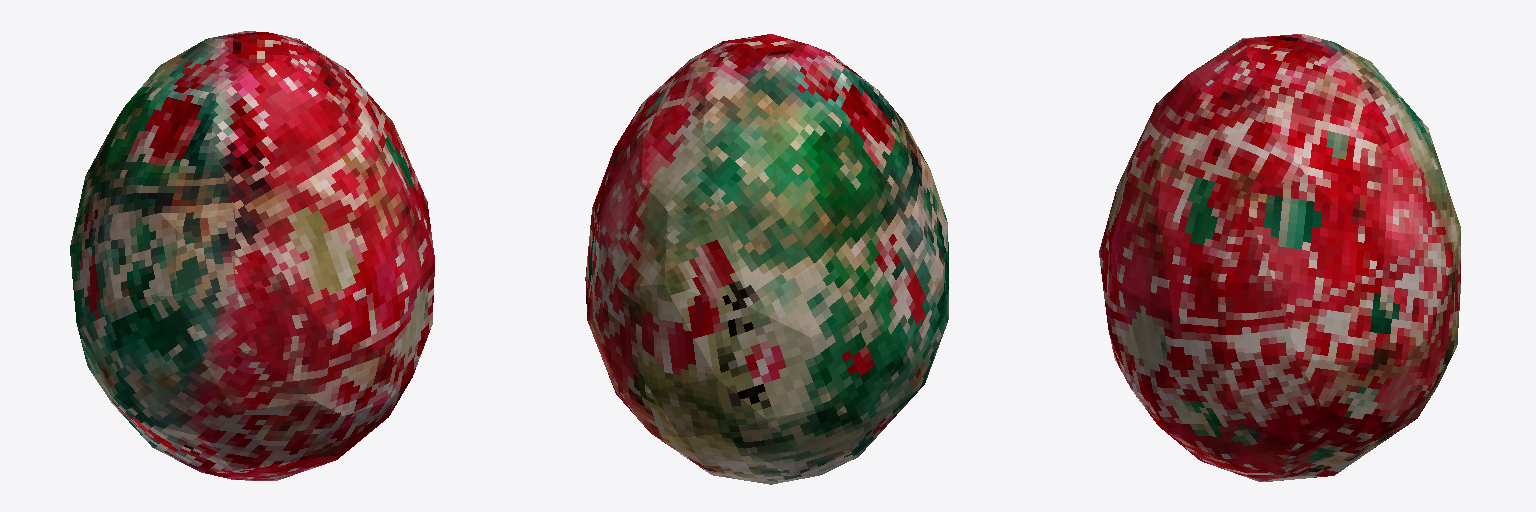
3 views of the same model, side by side, from view 1: azimuth 30°, elevation 25°; view 2: azimuth 150°, elevation 25°; view 3: azimuth 270°, elevation 25° (orthographic).
Parts seen in each view (by area): view 1: hp.067; view 2: hp.067; view 3: hp.067.
Boxes of the visible parts, box(x1,y1,x2,y2) form: hp.067: box(70, 31, 434, 480); hp.067: box(585, 34, 948, 484); hp.067: box(1099, 34, 1460, 481).
Bounding box in the file's own units: 41.22 × 52.58 × 40.88.
Materials: 1 (1 with a texture image).